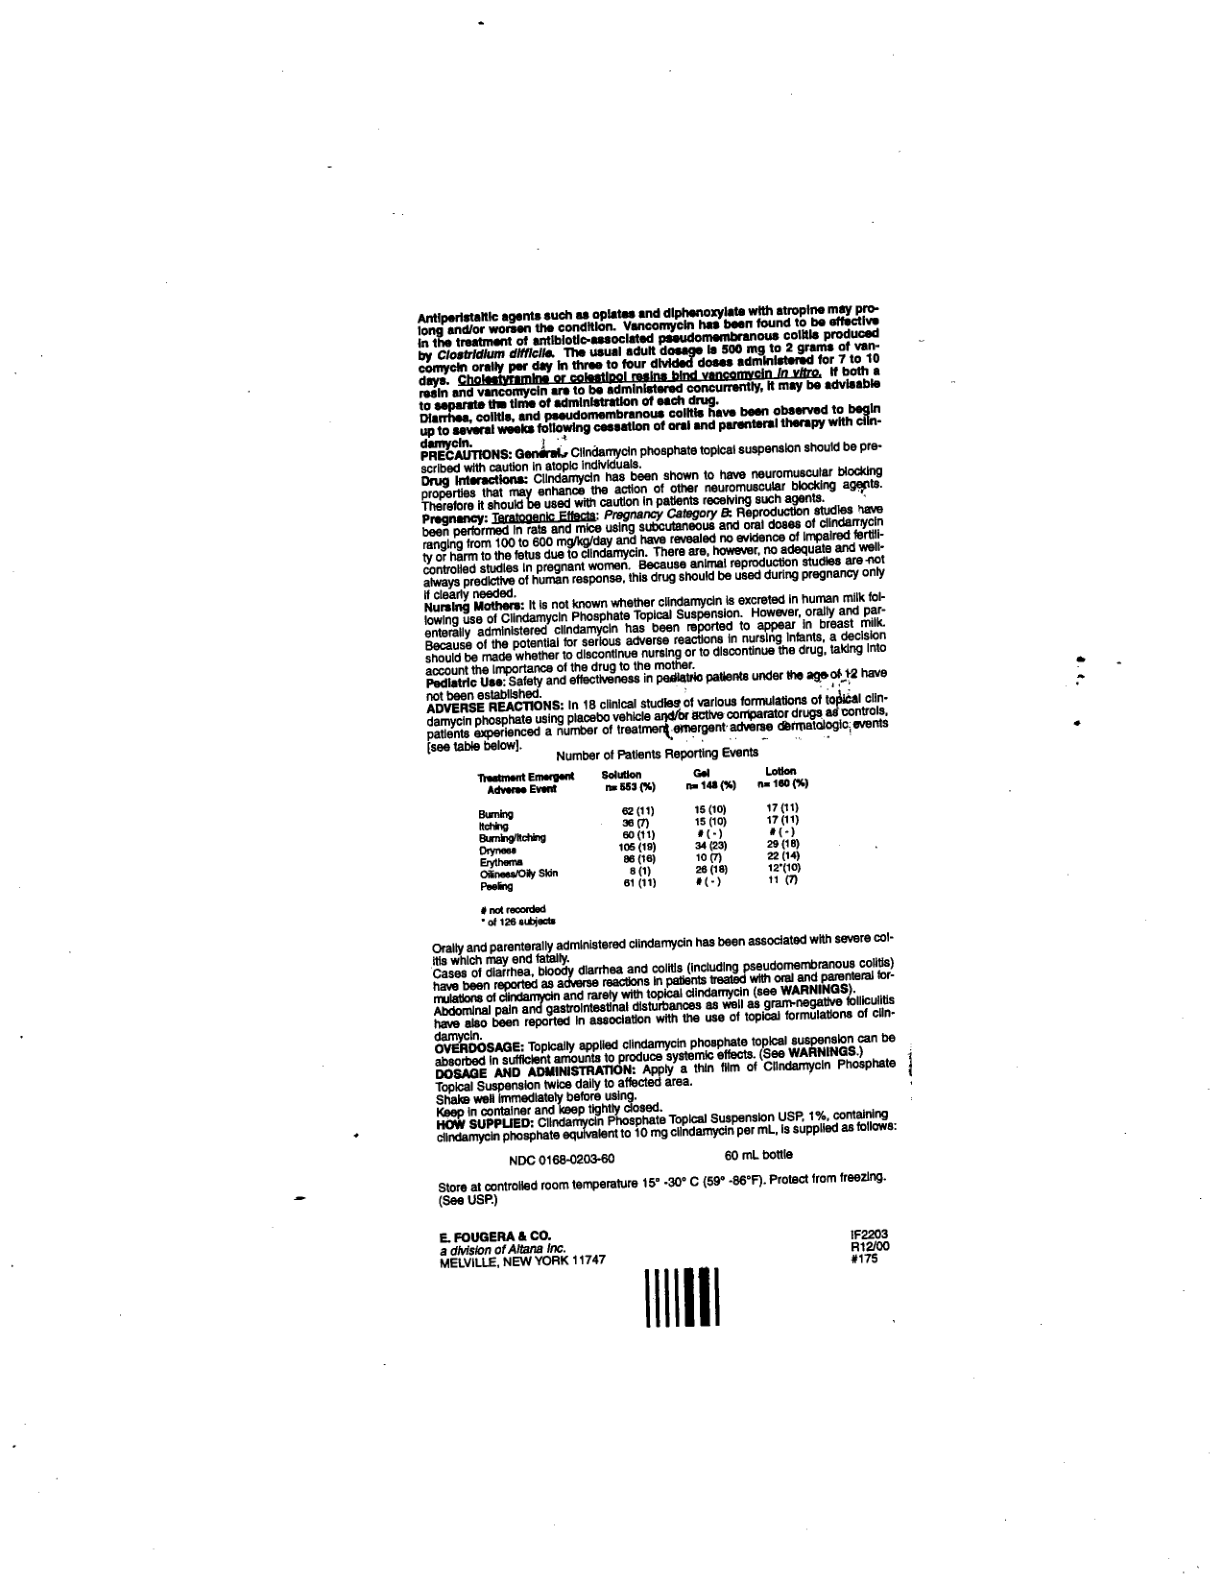nolines: (474, 764, 815, 894)
